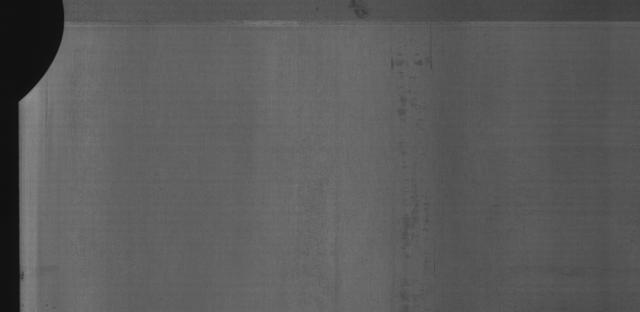crescent_gap: (12, 1, 74, 115)
welding_line: (58, 5, 640, 29)
